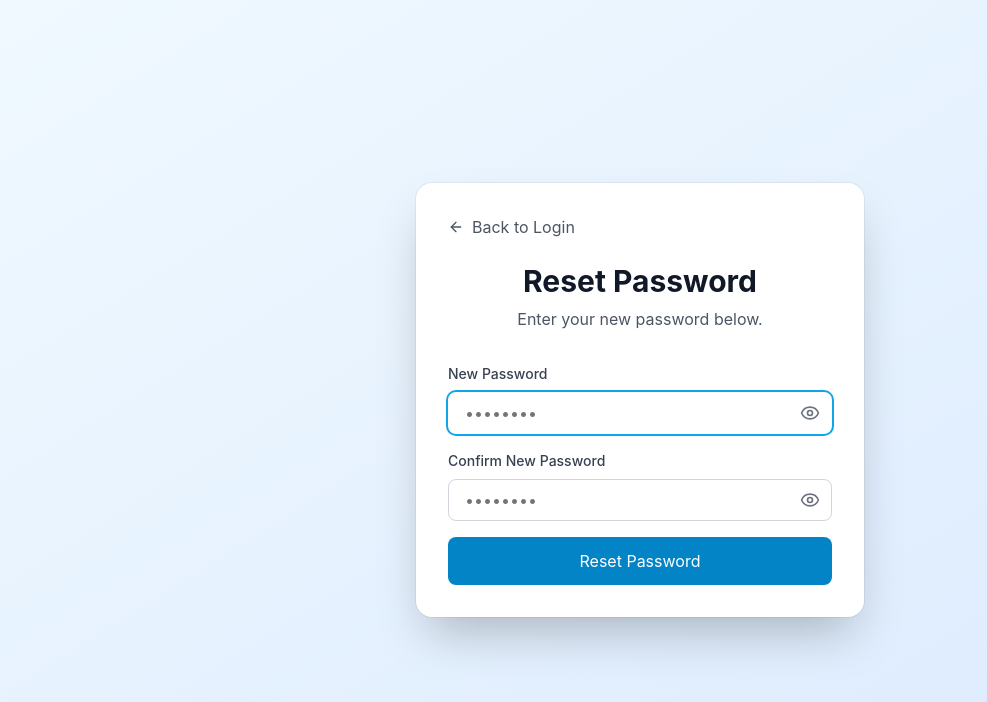
Test: ResetPasswordPage › should show error when password is too short
This screenshot has width=987, height=702.
Type "12345" into the password field with placeholder "••••••••" at [640, 413], box top-left (448, 392), bottom-right (832, 434)
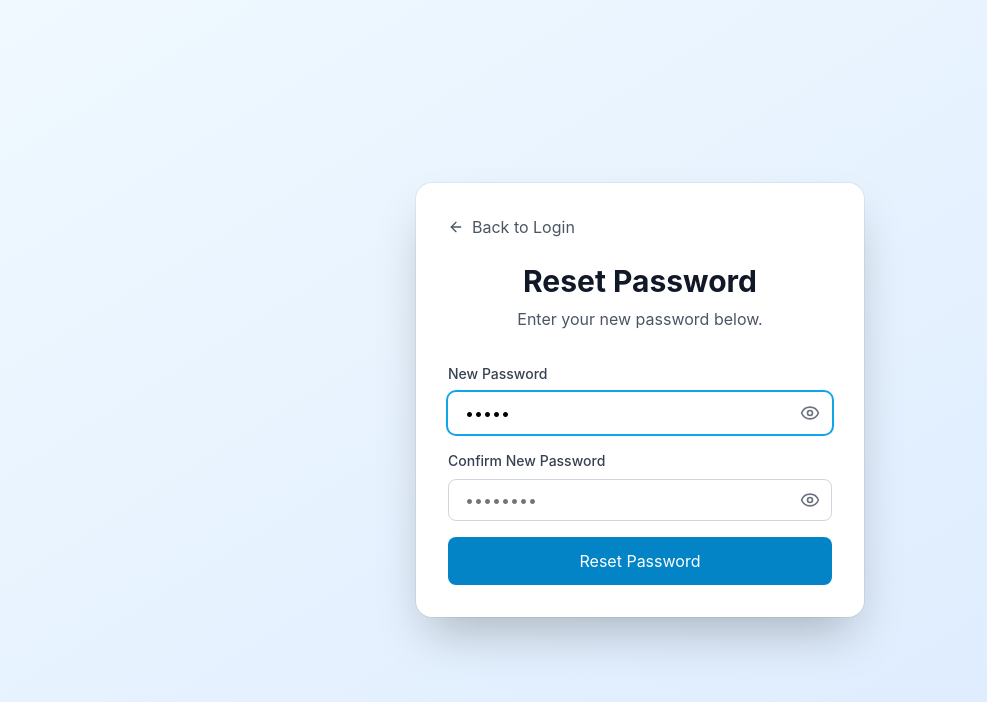
Type "12345" into the password field with placeholder "••••••••" at [640, 500], box top-left (448, 479), bottom-right (832, 521)
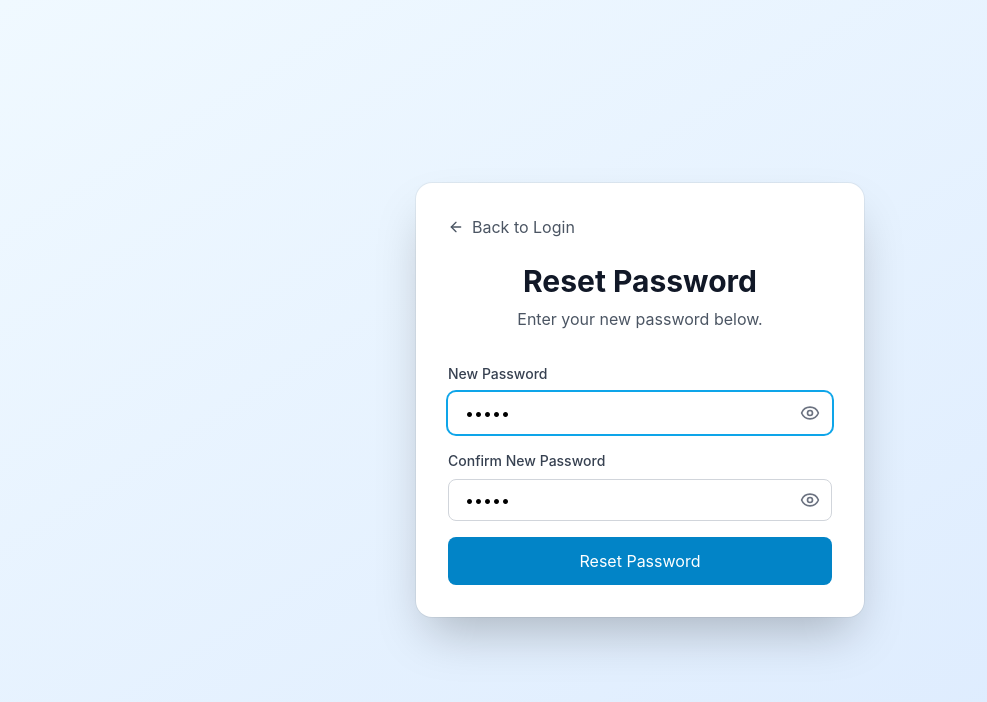
Click the button "Reset Password" at [640, 561], box top-left (448, 537), bottom-right (832, 585)
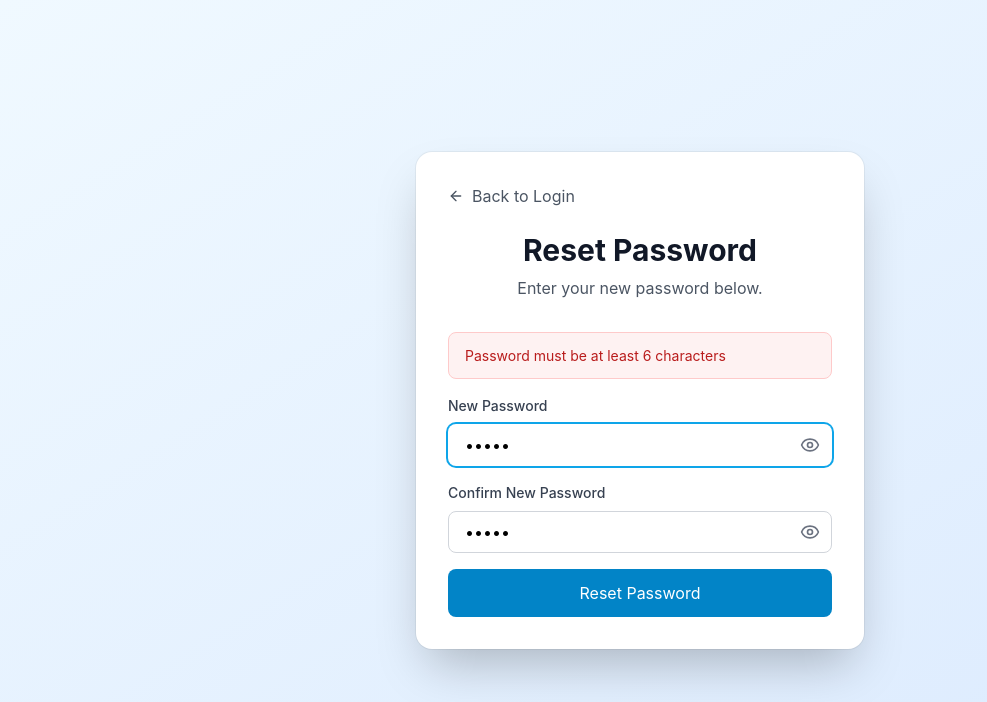
expect the text "Password must be at least 6 characters" is shown: met, box top-left (448, 332), bottom-right (832, 378)
